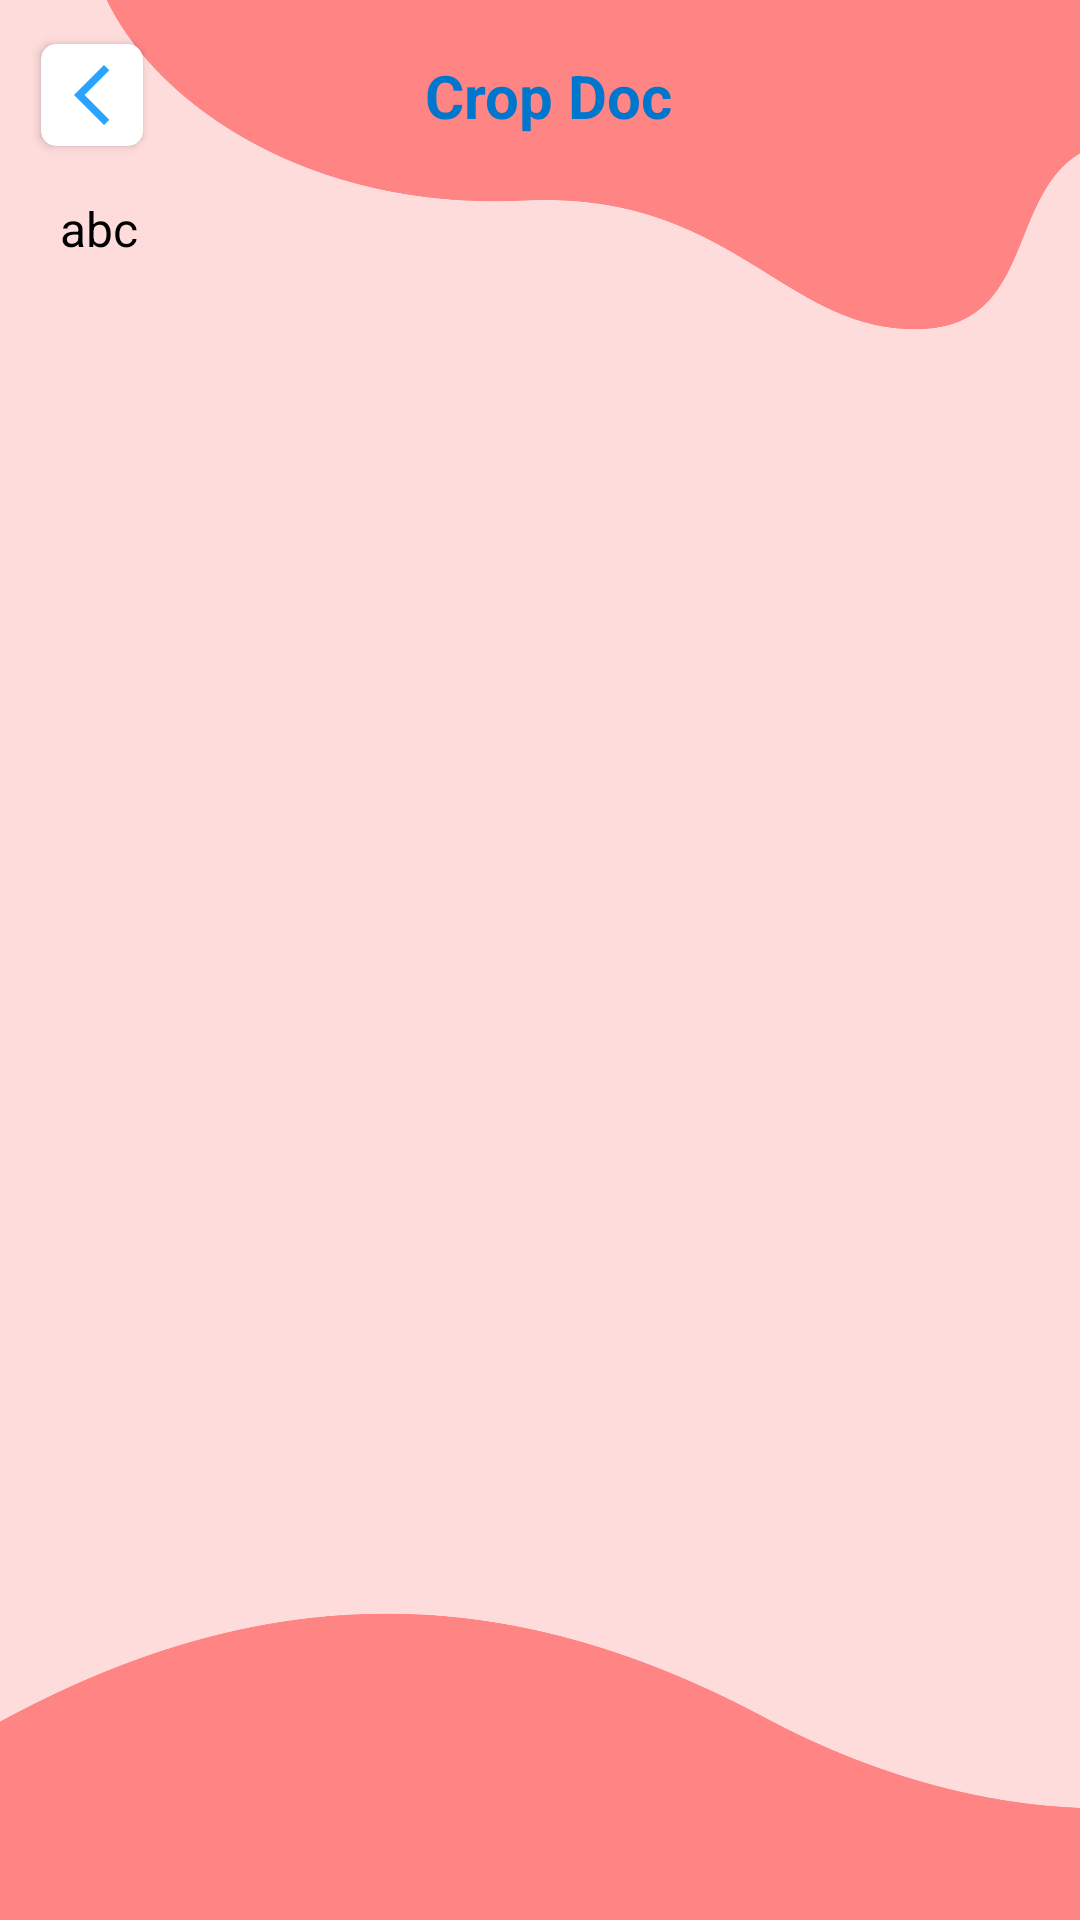

Point at icon controls on the screen. Image size 1080w x 1920h, points as point (x, y).
arrow back: point (91, 95)
